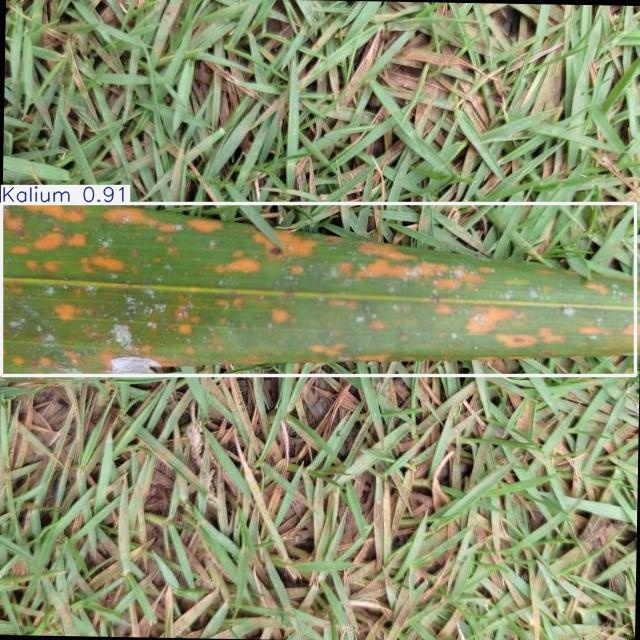Kalium: (2, 204, 636, 376)
